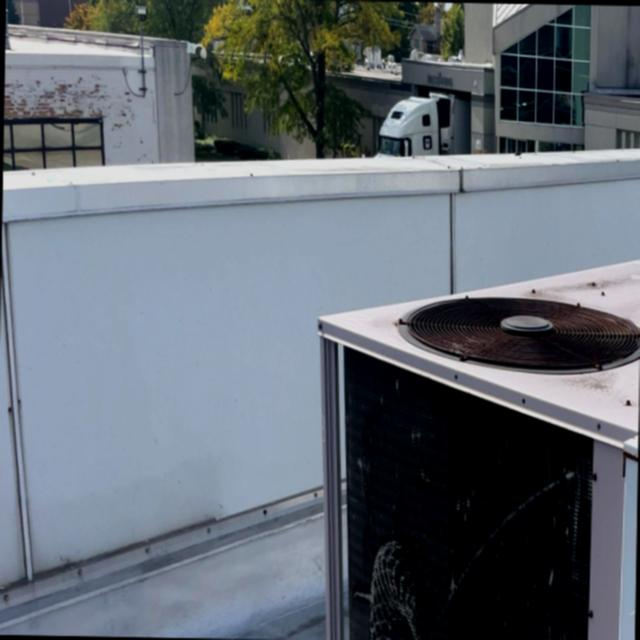RTU: (307, 220, 640, 640)
